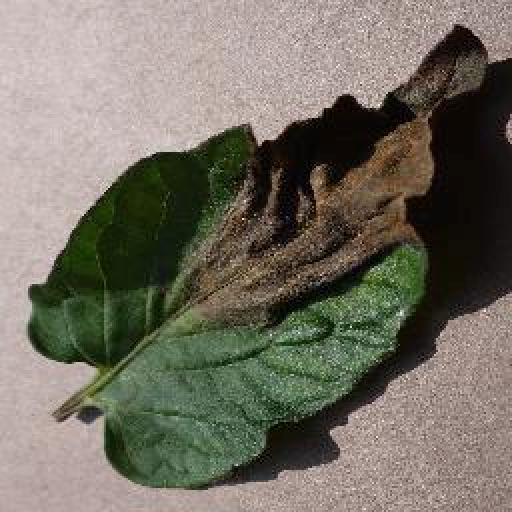disease_tomato: (26, 20, 494, 486)
